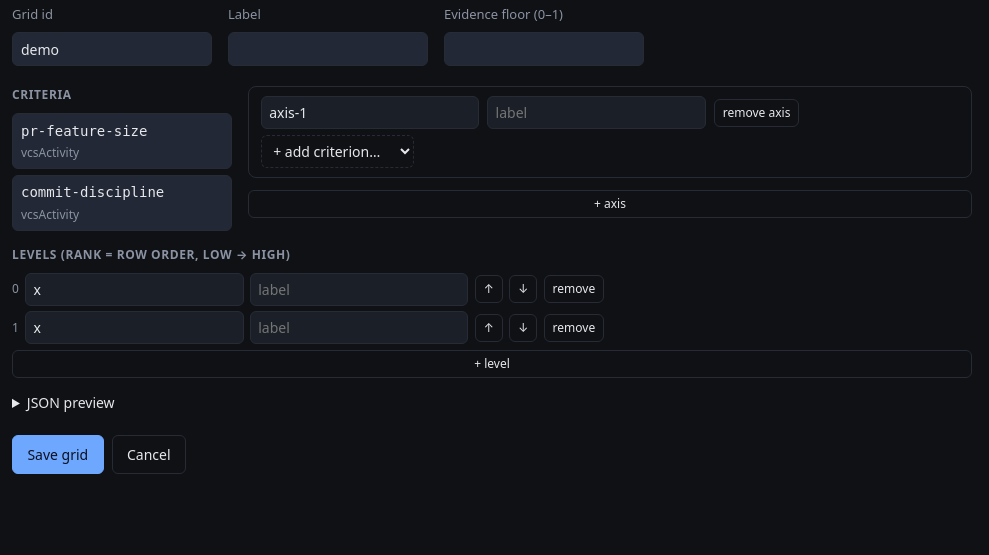
Test: GridBuilder › blocks the save and lists client issues on a duplicate level id
Click the button "Save grid" at [58, 455], box [12,435,104,474]
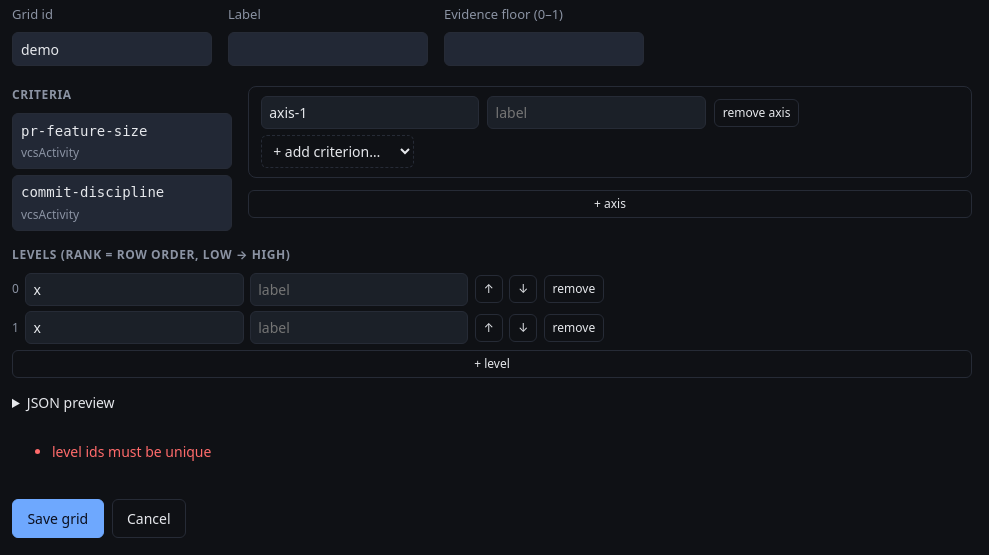
Result: the list item "level ids must be unique" is shown at [52,442,211,461]
